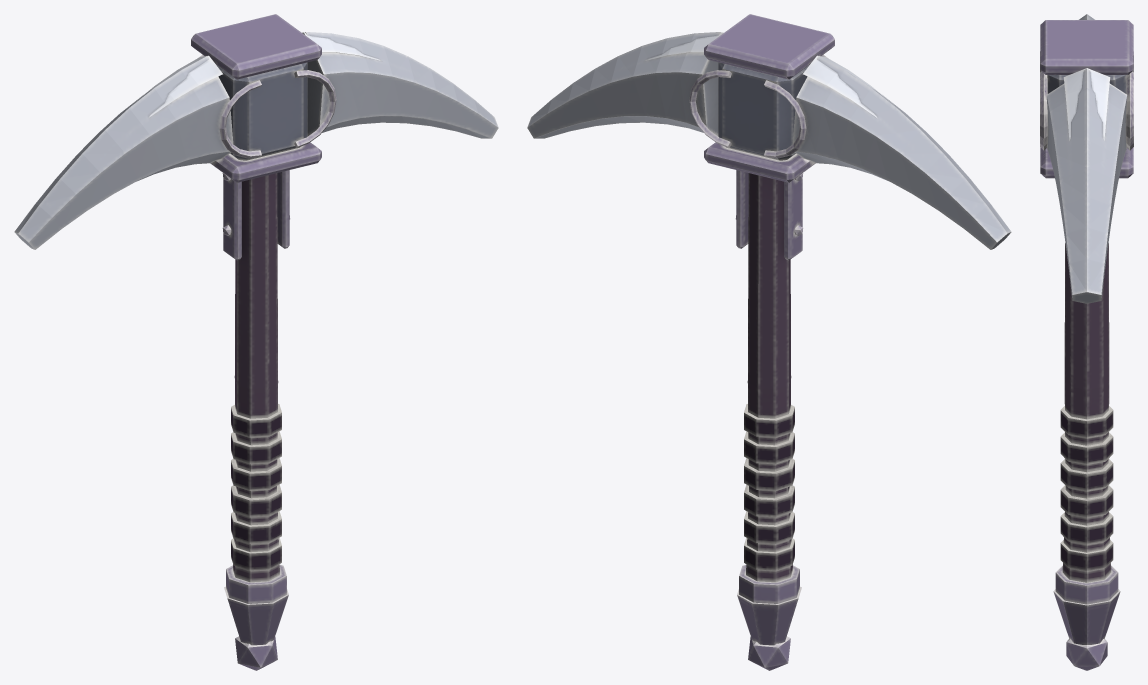
File: RuneTinPickaxe.glb
3 views of the same model, side by side, from view 1: azimuth 30°, elevation 25°; view 2: azimuth 150°, elevation 25°; view 3: azimuth 270°, elevation 25° (orthographic).
Visible parts, largest first — view 1: Body__Tex; view 2: Body__Tex; view 3: Body__Tex.
Boxes of the visible parts, x1,y1,x2,y2 form: Body__Tex: (14,14,498,670); Body__Tex: (527,14,1011,670); Body__Tex: (1040,14,1133,670).
Size of the model in its own units: 3.19 by 4.04 by 0.544.
Materials: 1 (1 with a texture image).
